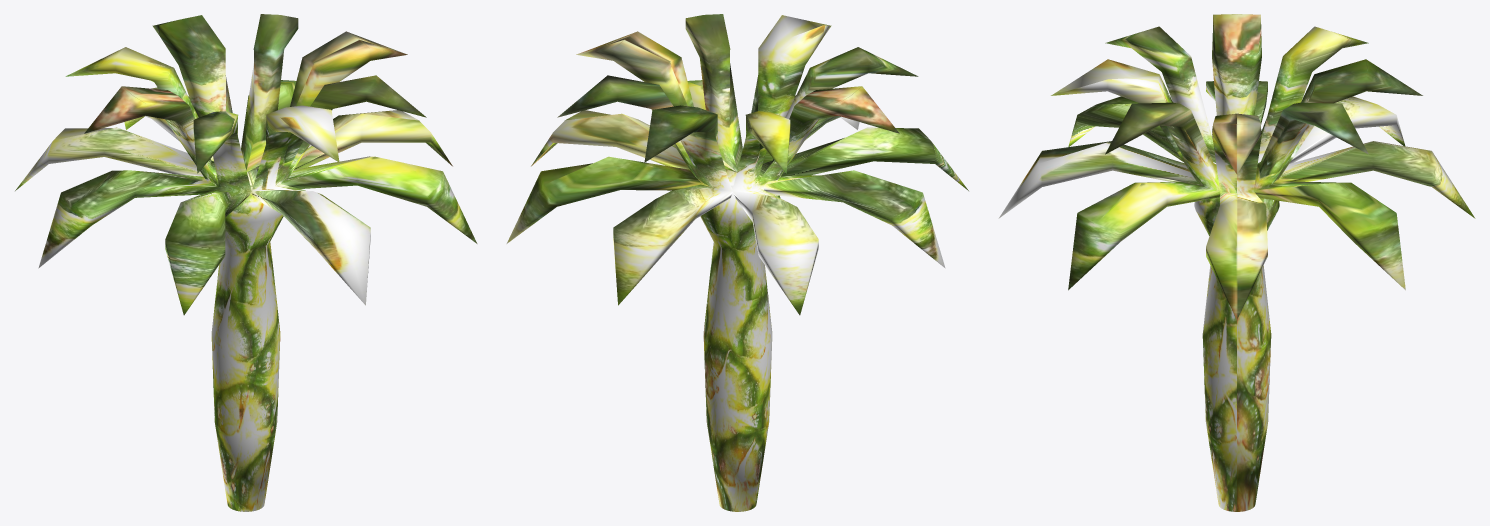
Rendered from Palm Tree.fbx.
3 views of the same model, side by side, from view 1: azimuth 30°, elevation 25°; view 2: azimuth 150°, elevation 25°; view 3: azimuth 270°, elevation 25° (orthographic).
Visible parts, largest first — view 1: Palm_Tree; view 2: Palm_Tree; view 3: Palm_Tree.
Part boxes in pixels (left/top/right/bottom): Palm_Tree: left=15, top=14, right=477, bottom=511; Palm_Tree: left=506, top=14, right=968, bottom=511; Palm_Tree: left=998, top=14, right=1475, bottom=511.
Size of the model in its own units: 240 by 241 by 240.
Materials: 1 (1 with a texture image).
